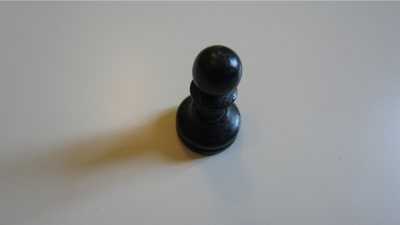black-pawn: (175, 43, 244, 157)
